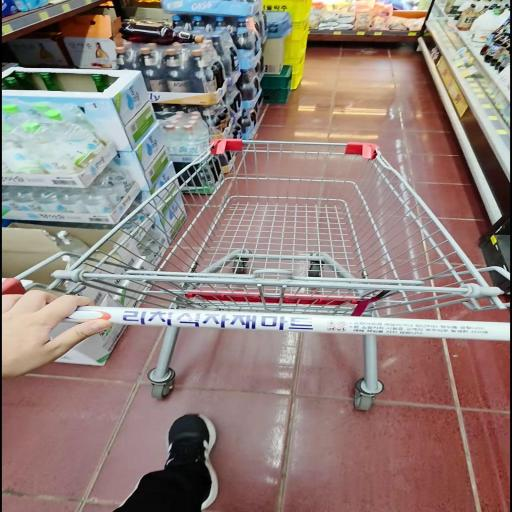empty_cart: (0, 136, 510, 414)
